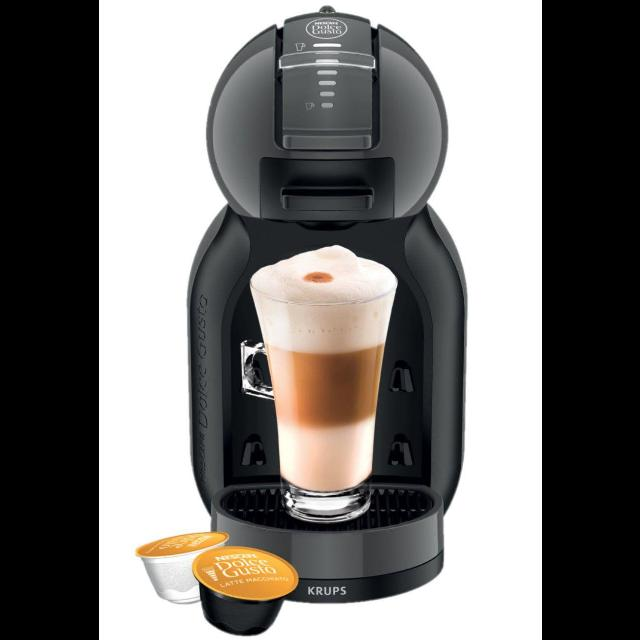Coffee-Machine: (175, 1, 470, 607)
